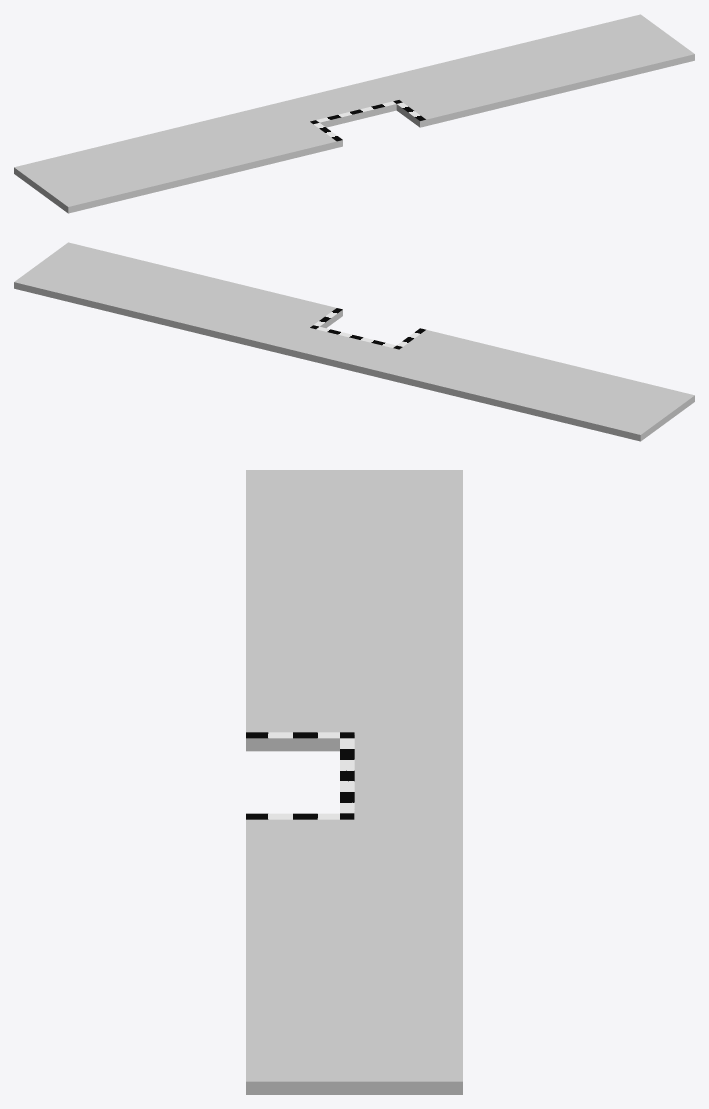
The model's file is SM_RoadModule_B1.fbx.
The picture shows the model from 3 angles, top to bottom: view 1: azimuth 30°, elevation 25°; view 2: azimuth 150°, elevation 25°; view 3: azimuth 270°, elevation 25°; orthographic projection. The views are drawn at different scales.
Visible parts, largest first — view 1: road; view 2: road; view 3: road.
Part boxes in pixels (left/top/right/bottom): road: left=14, top=14, right=694, bottom=213; road: left=14, top=242, right=694, bottom=441; road: left=246, top=470, right=462, bottom=1094.
Size of what is drawn, in the model's own units: 5000 by 50 by 750.
